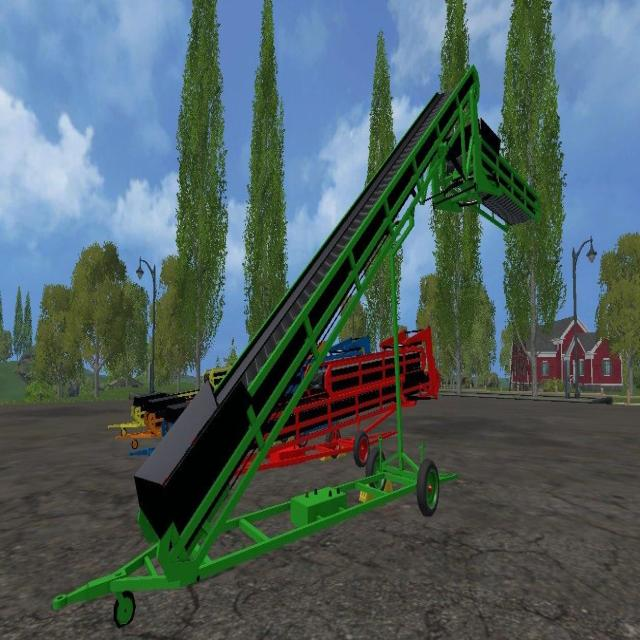conveyor: (115, 77, 544, 586)
